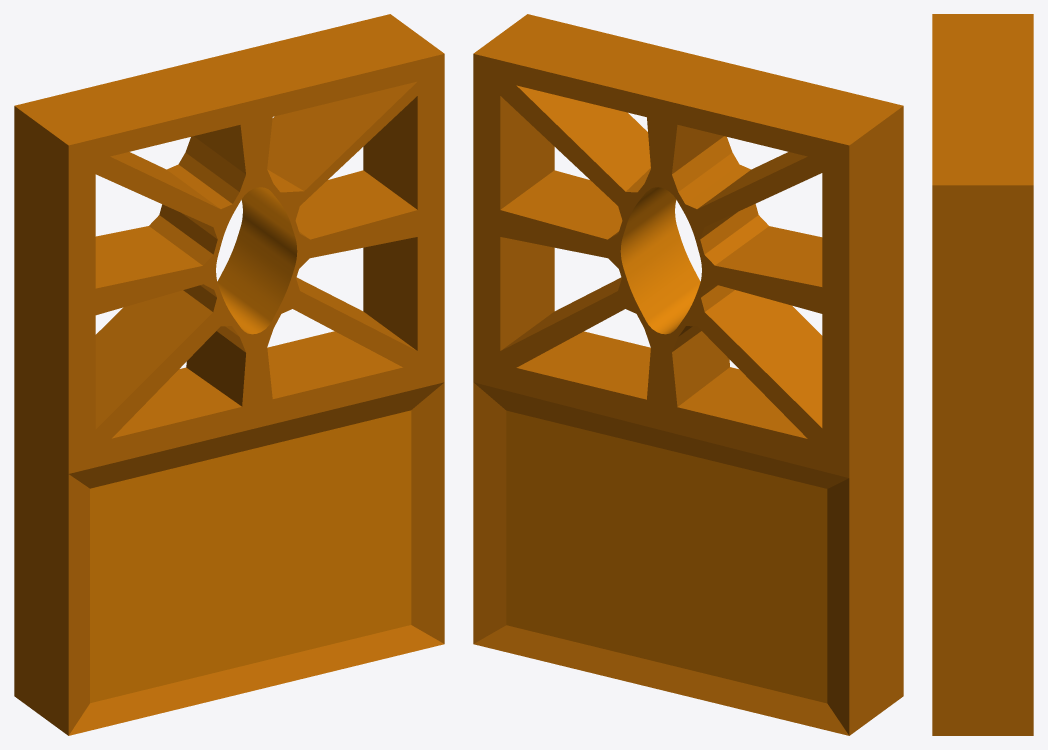
File: Puerta.obj
3 views of the same model, side by side, from view 1: azimuth 30°, elevation 25°; view 2: azimuth 150°, elevation 25°; view 3: azimuth 270°, elevation 25° (orthographic). The views are drawn at different scales.
Visible parts, largest first — view 1: Puerta; view 2: Puerta; view 3: Puerta.
Boxes of the visible parts, left/top/right/bottom form: Puerta: left=14, top=14, right=444, bottom=735; Puerta: left=473, top=14, right=903, bottom=735; Puerta: left=932, top=14, right=1033, bottom=735.
Bounding box in the file's own units: 200 × 300 × 50.
1 material, 1 textured.
